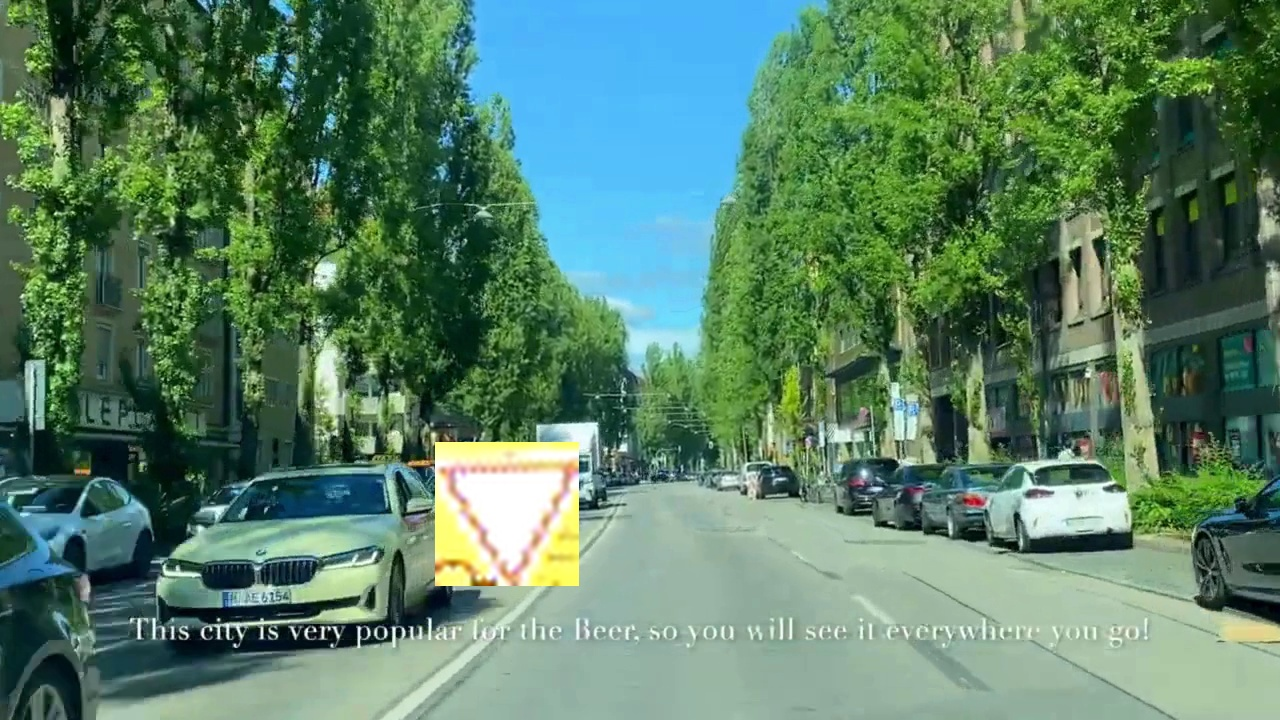Yield: (435, 442, 579, 586)
